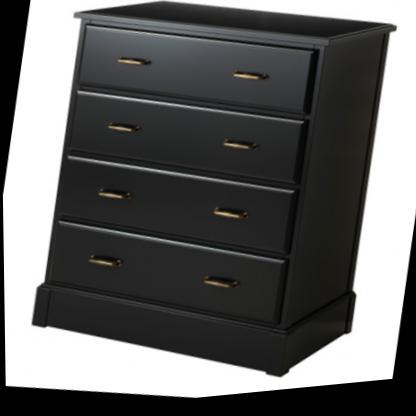Cabinet: (13, 0, 406, 415)
